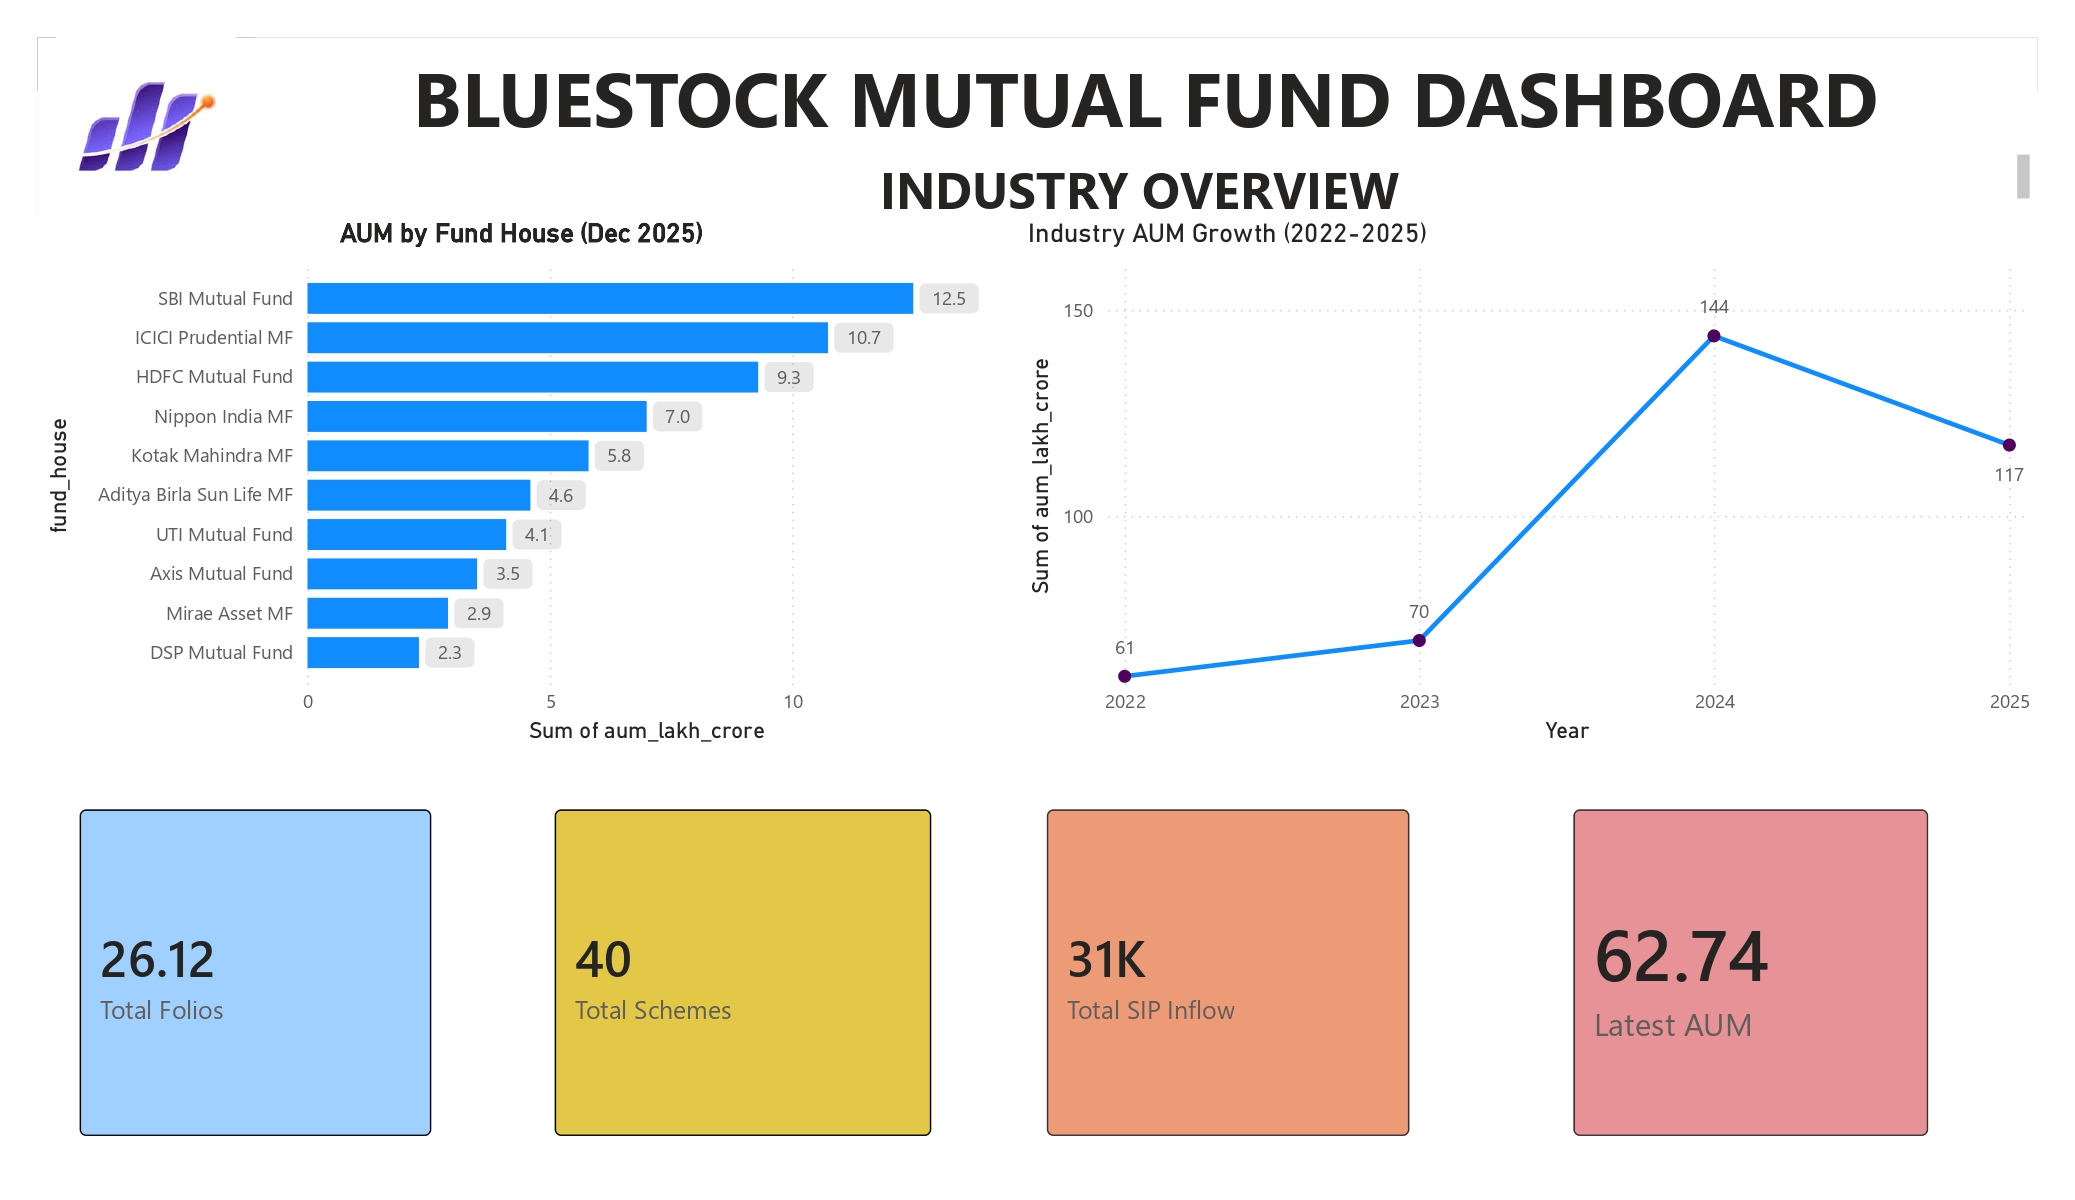

The page's visual inventory and layout, read from the dashboard file:
{"tool":"powerbi","page":{"name":"Industry Overview","canvas":[1280,720],"ordinal":0},"visuals":[{"type":"textbox","box":[139.1,0,1140.9,115.5],"z":0,"group":"g1"},{"type":"cardVisual","fields":{"Data":["04_monthly_sip_inflows.Total SIP Inflow"]},"box":[628.5,476.9,266.6,243.3],"z":1000},{"type":"cardVisual","fields":{"Data":["06_industry_folio_count.Total Folios"]},"box":[9.8,476.9,259.2,243.3],"z":2000},{"type":"cardVisual","fields":{"Data":["01_fund_master.Total Schemes"]},"box":[314.3,476.9,275.1,243.3],"z":3000},{"type":"cardVisual","fields":{"Data":["03_aum_by_fund_house.Latest AUM"]},"box":[966,476.9,261.7,243.3],"z":4000},{"type":"lineChart","title":"Industry AUM Growth (2022-2025)","fields":{"Category":["03_aum_by_fund_house.date.Variation.Date Hierarchy.Year"],"Y":["Sum(03_aum_by_fund_house.aum_lakh_crore)"]},"box":[628.5,114.9,651.8,342.4],"z":5000},{"type":"clusteredBarChart","title":"AUM by Fund House (Dec 2025)","fields":{"Category":["03_aum_by_fund_house.fund_house"],"Y":["Sum(03_aum_by_fund_house.aum_lakh_crore)"]},"box":[0,114.9,618.8,342.4],"z":6000},{"type":"image","box":[0,0,139.4,114.9],"z":8000,"group":"g1"},{"type":"textbox","box":[139.4,69.7,1140.9,45.2],"z":9000,"group":"g1"},{"type":"group","id":"g1","title":"Group 1","box":[0,0,1280.3,115.5],"z":9001}]}

Visuals, with their boxes on the page's 1280x720 design canvas (x1, y1, x2, y2). These are canvas units, not pixel positions in the 2075x1200 screenshot, which may show the page scaled, cropped or inside an application window:
textbox: [left=139, top=0, right=1280, bottom=116]
cardVisual - 04_monthly_sip_inflows.Total SIP Inflow: [left=628, top=477, right=895, bottom=720]
cardVisual - 06_industry_folio_count.Total Folios: [left=10, top=477, right=269, bottom=720]
cardVisual - 01_fund_master.Total Schemes: [left=314, top=477, right=589, bottom=720]
cardVisual - 03_aum_by_fund_house.Latest AUM: [left=966, top=477, right=1228, bottom=720]
"Industry AUM Growth (2022-2025)" lineChart: [left=628, top=115, right=1280, bottom=457]
"AUM by Fund House (Dec 2025)" clusteredBarChart: [left=0, top=115, right=619, bottom=457]
image: [left=0, top=0, right=139, bottom=115]
textbox: [left=139, top=70, right=1280, bottom=115]
"Group 1" group: [left=0, top=0, right=1280, bottom=116]
